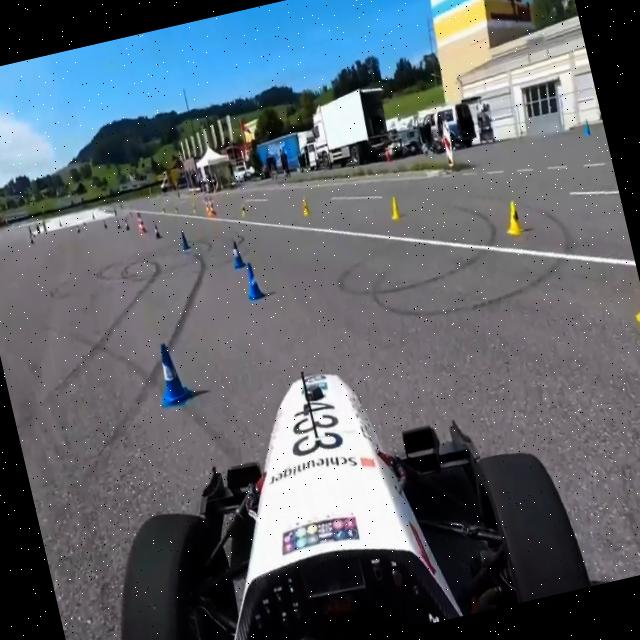blue_cone: (146, 330, 189, 406), (240, 256, 266, 300), (226, 233, 246, 270), (175, 226, 190, 252), (580, 113, 592, 137), (152, 222, 162, 241), (121, 216, 131, 232), (114, 216, 121, 229)
large_orange_cone: (206, 196, 218, 219), (136, 210, 146, 232), (202, 196, 212, 217), (134, 210, 143, 232)
yellow_cone: (498, 197, 527, 237), (625, 267, 640, 333), (386, 192, 402, 222), (298, 194, 310, 216), (239, 203, 248, 219)
